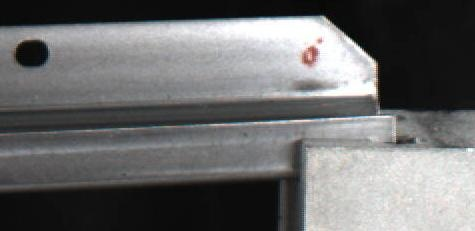cut: (219, 12, 404, 178)
holes: (13, 37, 51, 67)
